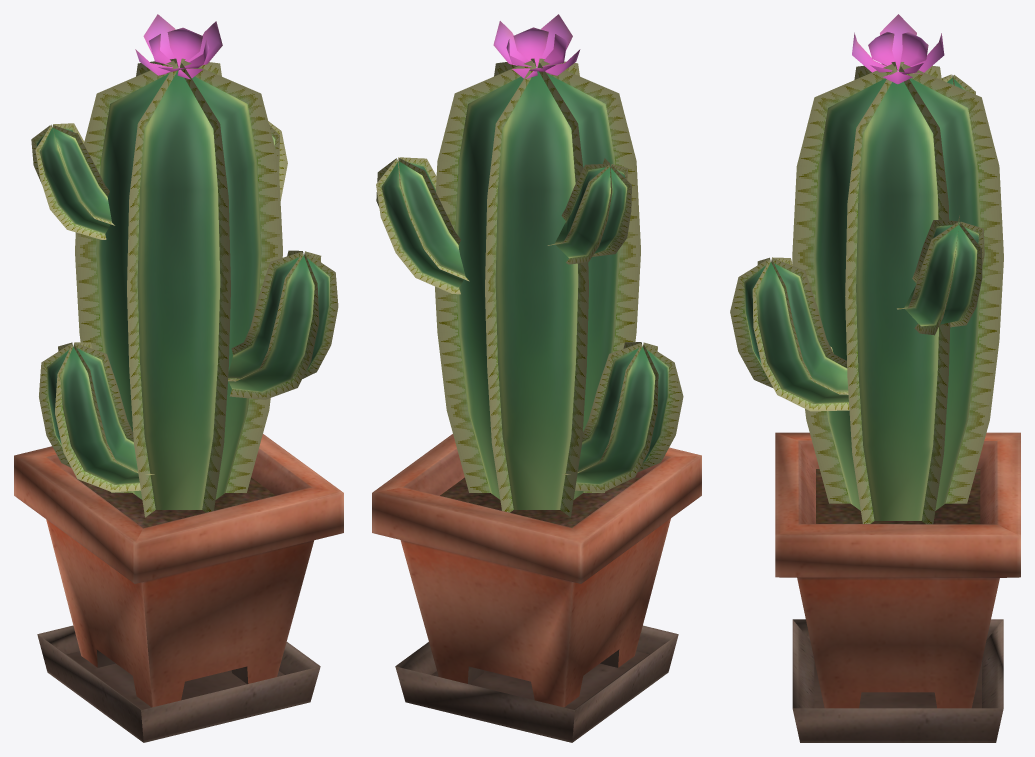
File: a_SWIfwpot02.glb
The picture shows the model from 3 angles, left to right: view 1: azimuth 30°, elevation 25°; view 2: azimuth 150°, elevation 25°; view 3: azimuth 270°, elevation 25°; orthographic projection.
Parts seen in each view (by area): view 1: a_SWIfwpot02; view 2: a_SWIfwpot02; view 3: a_SWIfwpot02.
Boxes of the visible parts, bbox=[...] form: a_SWIfwpot02: bbox=[14, 14, 343, 742]; a_SWIfwpot02: bbox=[372, 14, 701, 742]; a_SWIfwpot02: bbox=[730, 14, 1020, 742].
Size of the model in its own units: 0.6984 by 1.62 by 0.6402.
2 materials, 2 textured.
